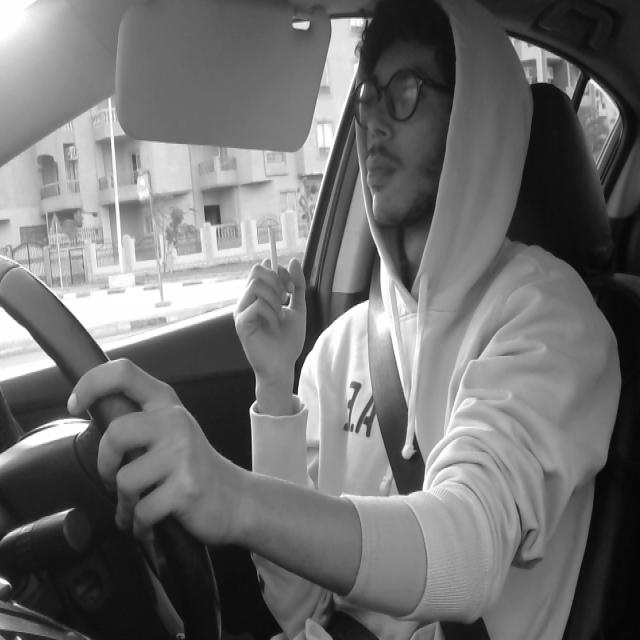smoking: (256, 216, 282, 292)
